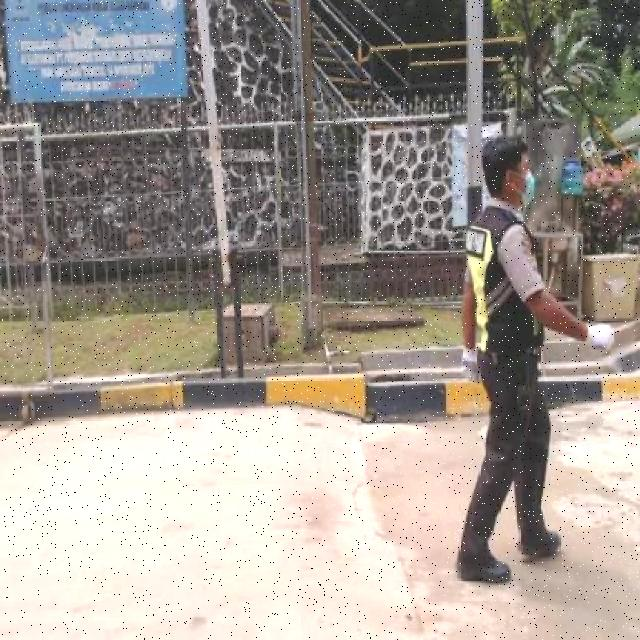Boots: (454, 546, 516, 588), (514, 524, 564, 562)
Gloves: (582, 315, 618, 360), (460, 343, 482, 388)
